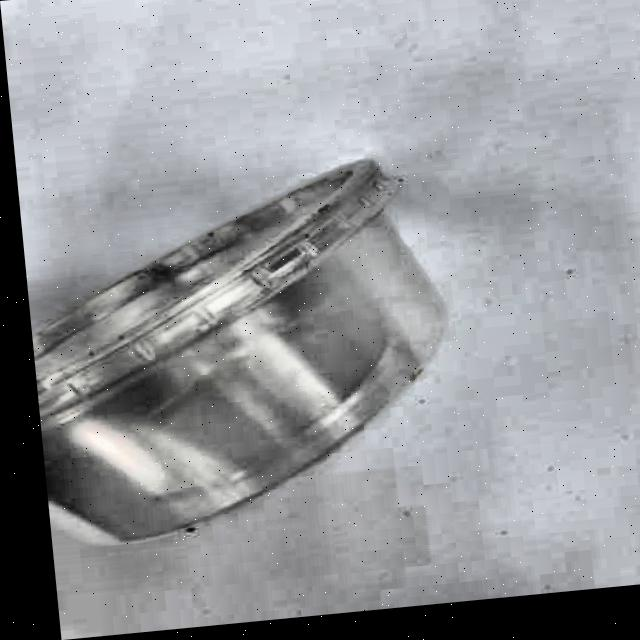plastic: (18, 151, 481, 553)
